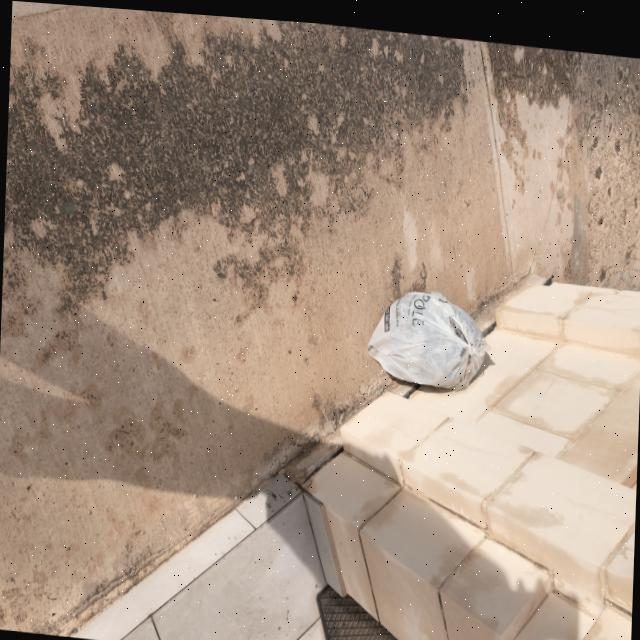Organic Waste -White Bag-: (362, 269, 497, 392)
